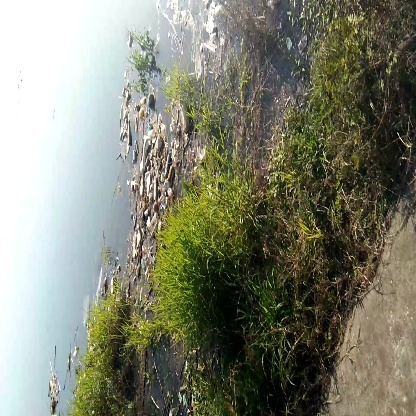grass: (168, 209, 222, 330)
